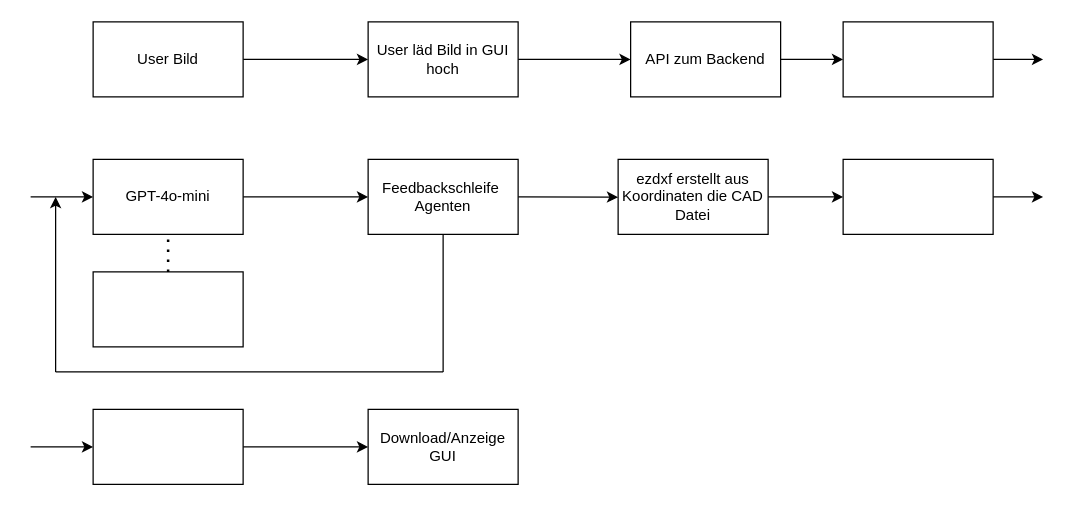
This 1075x506 diagram has some shape labels left out. The shapes that lost their labels are listed below. From the top down, each one's box as (x1, y1, x2, y2) in pixels, then its label:
(842, 21, 993, 97): Preprocessing
(842, 158, 993, 234): dxf umwandeln zu png
(92, 271, 243, 347): Extraction rooms + Koordinaten
(92, 408, 243, 484): Fertige CAD + Fertiges Bild
